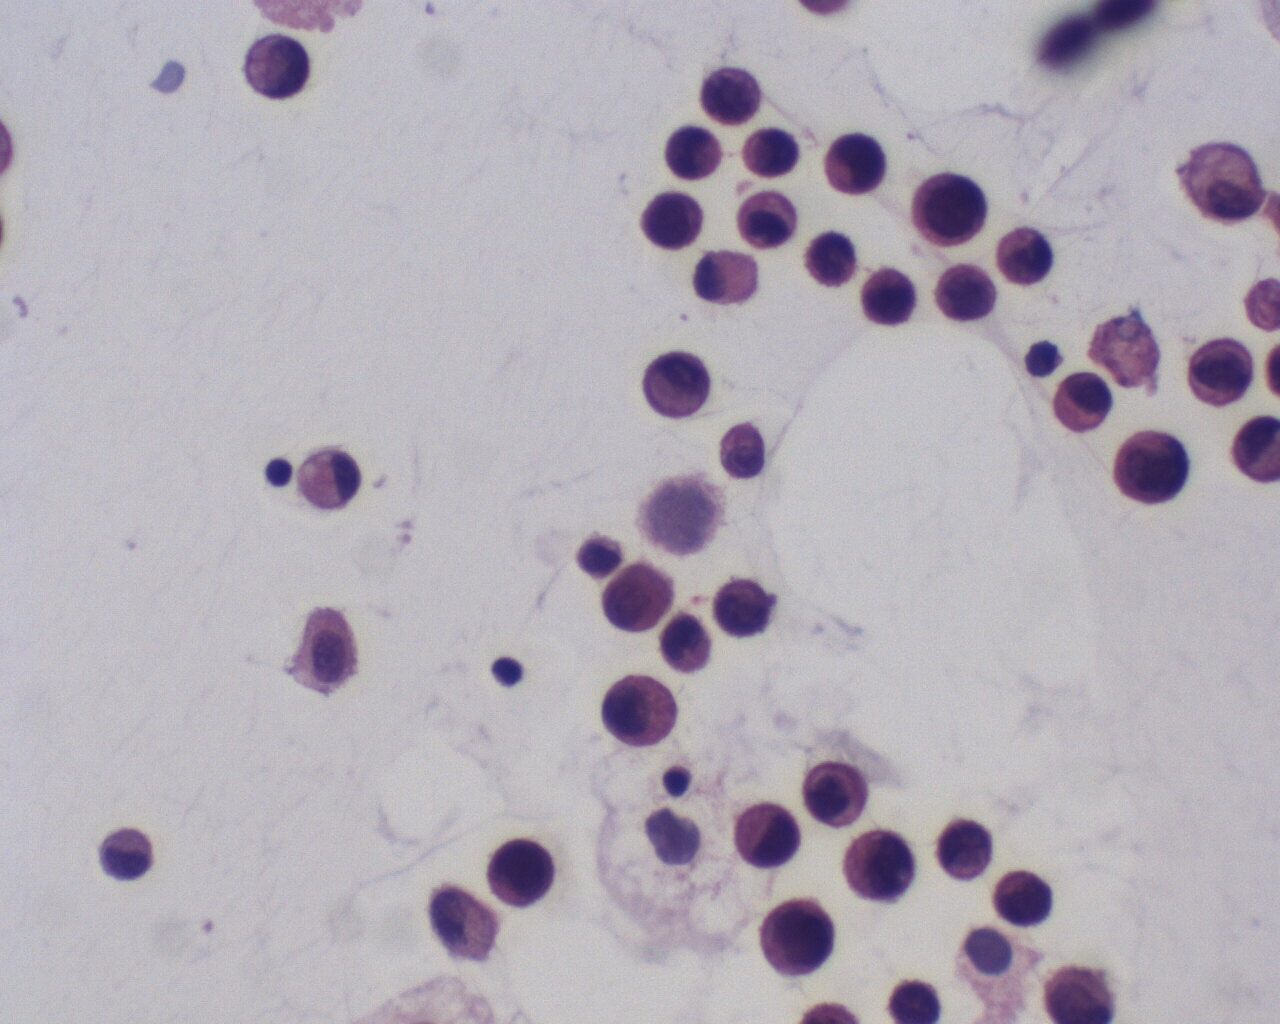ab: (478, 828, 571, 918), (751, 894, 843, 983), (908, 165, 991, 252), (1110, 427, 1189, 512), (985, 216, 1066, 292), (842, 827, 918, 905), (727, 796, 804, 871), (930, 255, 1008, 328), (1184, 334, 1257, 412), (241, 30, 315, 106), (799, 754, 871, 829), (990, 864, 1061, 937), (820, 129, 890, 201), (931, 812, 997, 886), (709, 576, 783, 642), (636, 187, 705, 255), (856, 263, 923, 332), (698, 59, 763, 126), (657, 608, 719, 677), (660, 122, 727, 184), (735, 123, 801, 182), (798, 228, 859, 290)
lymph: (491, 652, 529, 694), (661, 760, 697, 800), (260, 453, 292, 487)
meso: (1045, 359, 1115, 441)
